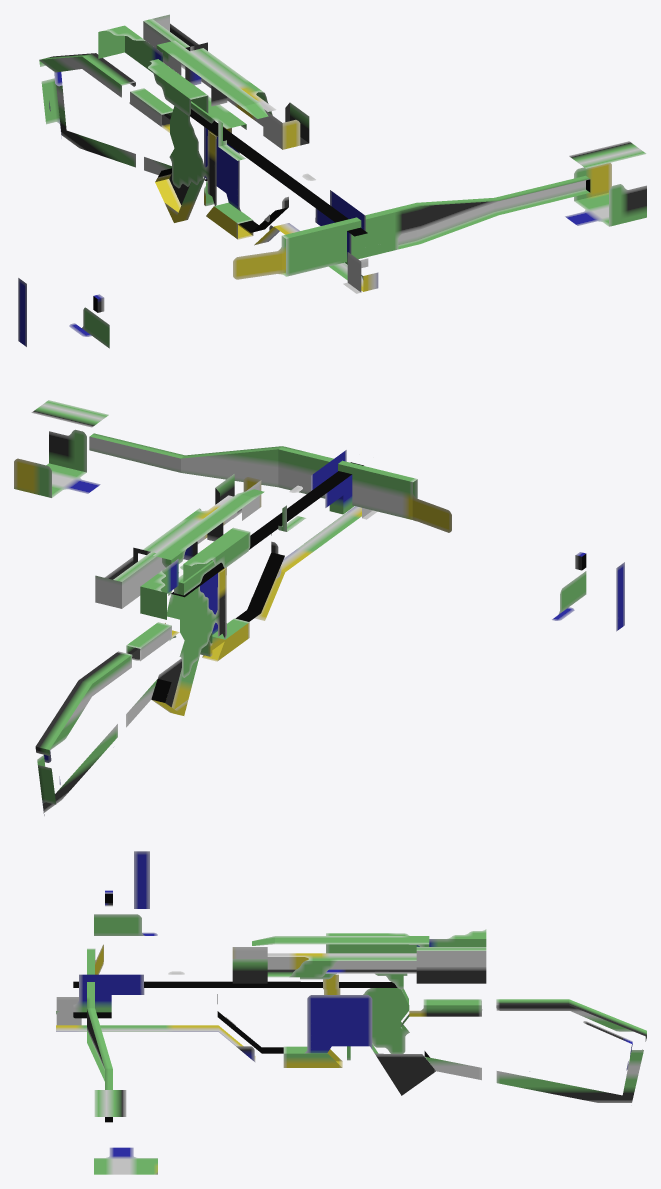
The model's file is bowcasterModel.obj.
3 renders of one model, top to bottom at view 1: azimuth 30°, elevation 25°; view 2: azimuth 150°, elevation 25°; view 3: azimuth 270°, elevation 25°, orthographic. The views are drawn at different scales.
Visible parts, largest first — view 1: pCube13; view 2: pCube13; view 3: pCube13.
Part boxes in pixels (<box>): pCube13: <box>18,14,646,348</box>; pCube13: <box>14,400,624,815</box>; pCube13: <box>56,851,646,1174</box>.
Size of the model in its own units: 2.96 by 0.8762 by 2.98.
